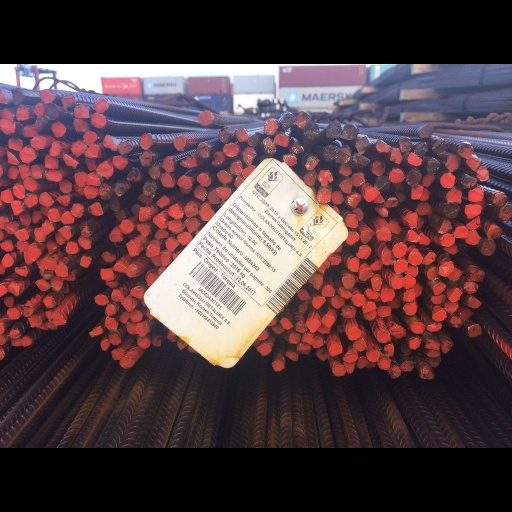dipstick: (295, 110, 313, 129), (479, 238, 496, 257), (70, 140, 88, 157), (96, 162, 114, 179), (20, 146, 37, 164), (27, 242, 42, 262), (341, 123, 358, 140), (280, 112, 296, 130), (351, 155, 371, 169), (0, 118, 16, 135), (102, 134, 118, 151), (197, 110, 214, 126), (222, 142, 239, 158), (388, 167, 404, 184), (406, 169, 422, 186), (438, 260, 455, 276), (446, 187, 462, 204), (84, 143, 102, 158), (242, 148, 257, 166), (5, 147, 20, 165), (356, 135, 370, 154), (445, 155, 461, 171), (491, 192, 507, 208), (419, 364, 435, 380), (114, 180, 129, 197), (195, 141, 210, 158), (304, 123, 319, 140), (326, 122, 341, 139), (468, 267, 485, 282), (443, 203, 460, 218), (200, 204, 215, 221), (139, 133, 153, 151), (179, 154, 197, 168), (35, 116, 50, 132), (91, 113, 107, 128), (62, 153, 78, 168), (168, 204, 184, 219), (323, 145, 339, 160), (24, 177, 40, 192), (39, 192, 55, 207), (121, 297, 137, 312), (432, 139, 448, 154), (402, 212, 417, 228), (439, 232, 455, 247), (440, 172, 455, 188), (458, 143, 473, 159), (487, 223, 502, 239), (264, 118, 278, 135), (375, 227, 392, 241), (427, 158, 441, 175), (476, 165, 490, 182), (464, 204, 482, 217), (39, 89, 54, 104), (51, 121, 66, 136), (118, 141, 133, 156), (83, 185, 98, 200), (49, 141, 64, 156), (119, 219, 134, 234), (185, 217, 200, 232), (142, 182, 157, 197), (316, 189, 331, 204), (365, 187, 380, 202), (356, 244, 371, 259), (135, 322, 150, 337), (467, 323, 482, 338), (374, 176, 389, 191), (418, 123, 433, 138), (45, 106, 61, 120), (113, 155, 129, 169), (125, 241, 139, 257), (168, 219, 184, 233), (176, 175, 192, 189), (229, 160, 243, 176), (346, 194, 362, 208), (256, 342, 272, 356), (10, 200, 24, 216), (50, 311, 66, 325), (393, 242, 407, 258), (407, 252, 423, 266), (467, 188, 483, 202), (460, 174, 476, 188), (216, 170, 233, 183), (414, 141, 427, 158), (415, 202, 432, 215), (95, 98, 109, 113), (11, 89, 25, 104), (83, 131, 98, 145), (165, 237, 180, 251), (177, 231, 192, 245), (184, 203, 199, 217), (138, 152, 153, 166), (197, 172, 211, 187), (211, 151, 225, 166), (234, 127, 248, 142), (262, 138, 276, 153), (274, 133, 289, 147), (319, 170, 333, 185), (361, 229, 375, 244), (359, 267, 373, 282), (305, 319, 320, 333), (23, 194, 38, 208), (53, 264, 68, 278), (407, 152, 422, 166), (405, 229, 420, 243), (394, 259, 408, 274), (390, 276, 405, 290), (380, 288, 395, 302), (402, 302, 417, 316), (402, 274, 416, 289), (448, 288, 463, 302), (454, 225, 469, 239), (308, 274, 322, 289), (437, 219, 452, 233), (391, 324, 405, 339), (73, 105, 89, 118), (173, 135, 186, 151), (74, 171, 87, 187), (79, 222, 92, 238), (145, 245, 161, 258), (345, 213, 358, 229), (35, 279, 51, 292), (389, 148, 402, 164), (409, 321, 425, 334), (399, 359, 415, 372), (467, 155, 480, 171), (112, 261, 128, 274), (99, 183, 111, 200), (58, 179, 72, 193), (57, 227, 71, 241), (160, 173, 174, 187), (217, 129, 231, 143), (306, 156, 320, 170), (371, 161, 385, 175), (351, 293, 365, 307), (312, 296, 326, 310), (347, 327, 361, 341), (12, 185, 26, 199), (42, 295, 56, 309), (7, 283, 21, 297), (104, 316, 118, 330), (366, 349, 380, 363), (330, 295, 344, 309), (16, 105, 29, 120), (61, 95, 76, 108), (73, 118, 88, 131), (86, 173, 101, 186), (71, 203, 84, 218), (78, 235, 91, 250), (136, 223, 151, 236), (126, 265, 141, 278), (352, 172, 365, 187), (375, 140, 390, 153), (30, 136, 45, 149), (27, 314, 42, 327), (1, 253, 14, 268), (399, 137, 412, 152), (375, 330, 390, 343), (463, 281, 478, 294), (341, 306, 356, 319), (18, 164, 31, 179), (8, 137, 23, 150), (162, 156, 174, 172), (340, 178, 352, 194), (431, 309, 447, 321), (466, 297, 482, 309), (340, 145, 350, 164), (426, 322, 443, 333), (126, 167, 139, 181), (90, 202, 103, 216), (138, 207, 151, 221), (153, 216, 167, 229), (100, 268, 114, 281), (194, 187, 207, 201), (247, 132, 260, 146), (341, 276, 354, 290), (108, 332, 121, 346), (137, 337, 151, 350), (377, 357, 391, 370), (402, 288, 416, 301), (432, 282, 446, 295), (423, 252, 436, 266), (345, 231, 359, 244), (303, 172, 316, 186), (22, 125, 37, 137), (47, 170, 62, 182), (108, 230, 123, 242), (101, 251, 116, 263), (148, 165, 160, 180), (289, 142, 304, 154), (347, 257, 359, 272), (328, 344, 343, 356), (14, 229, 29, 241), (377, 305, 392, 317), (425, 339, 440, 351), (0, 188, 12, 203), (216, 187, 231, 199), (55, 195, 71, 206), (45, 156, 58, 169), (61, 211, 74, 224), (65, 241, 78, 254), (321, 315, 334, 328), (280, 317, 293, 330), (316, 349, 329, 362), (111, 348, 124, 361), (111, 289, 124, 302), (375, 205, 388, 218), (6, 166, 19, 179), (156, 196, 170, 208), (282, 154, 296, 166), (297, 289, 311, 301), (90, 326, 104, 338), (7, 307, 21, 319), (120, 356, 134, 368), (20, 211, 31, 226), (52, 277, 63, 292), (49, 208, 61, 221), (321, 285, 334, 297), (298, 343, 311, 355), (41, 222, 54, 234), (80, 255, 92, 268), (105, 304, 118, 316), (408, 336, 420, 349), (20, 305, 33, 317), (389, 221, 401, 234), (289, 332, 301, 345), (296, 321, 308, 334), (332, 191, 343, 205), (285, 351, 299, 362), (94, 294, 108, 305), (411, 185, 422, 199), (343, 352, 358, 362), (312, 336, 324, 348), (272, 359, 284, 371), (130, 310, 142, 322), (113, 209, 126, 220), (371, 278, 382, 291), (302, 333, 315, 344), (15, 266, 28, 277), (32, 210, 43, 223), (427, 267, 438, 280), (419, 233, 430, 246), (423, 174, 434, 187), (442, 341, 453, 354), (161, 251, 171, 265), (154, 230, 169, 239), (339, 164, 351, 175), (333, 366, 345, 377), (21, 336, 33, 347), (385, 197, 397, 208), (33, 104, 44, 115), (131, 287, 143, 297), (3, 296, 13, 308), (119, 312, 129, 323), (9, 329, 21, 338), (152, 336, 162, 346), (423, 188, 430, 201)
